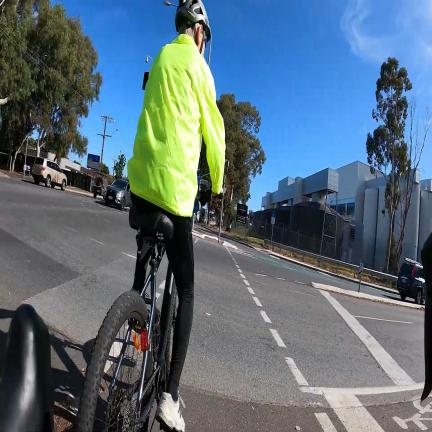Bike_Lane: (356, 390, 432, 432)
